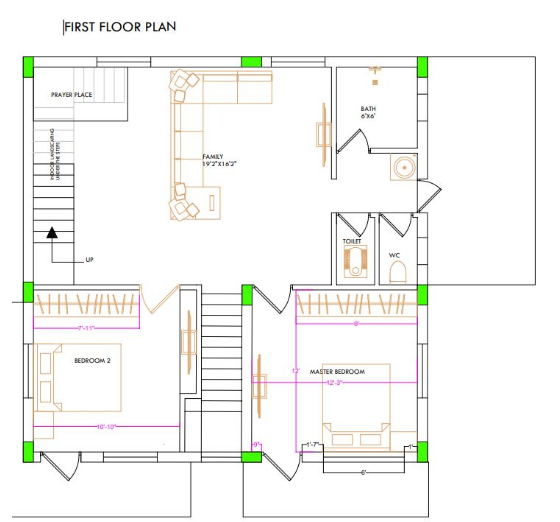door: (252, 283, 293, 316), (41, 450, 80, 482), (262, 450, 302, 481), (139, 283, 180, 313), (334, 126, 371, 154), (379, 211, 415, 238), (417, 178, 443, 214), (336, 211, 372, 237)
